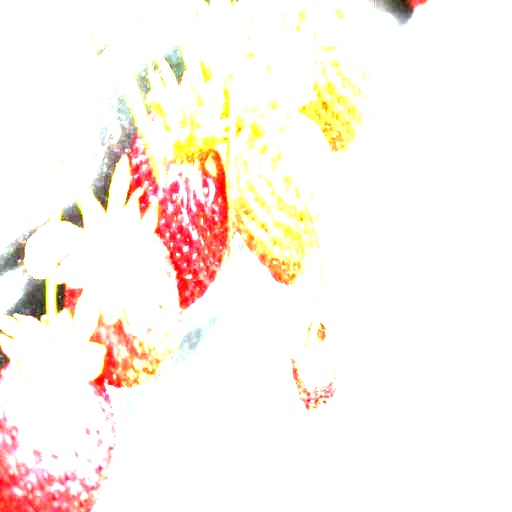Gray Mold: (288, 253, 367, 412)
